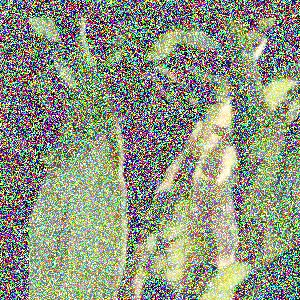Leaf_Blast: (38, 107, 131, 300)
